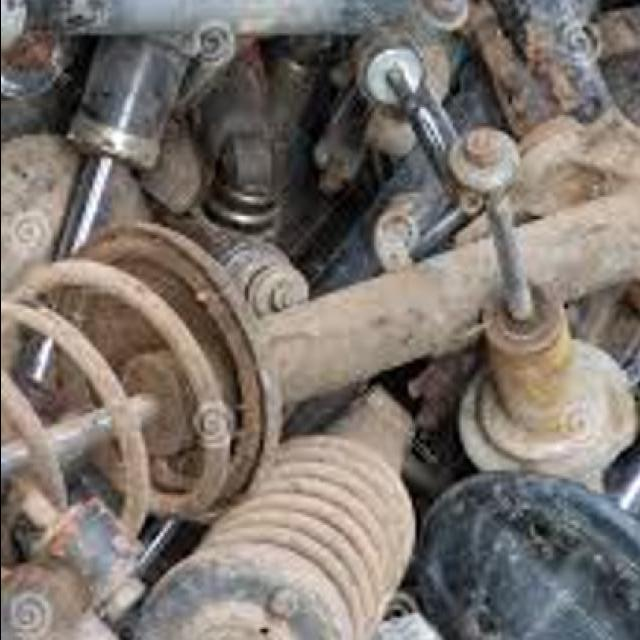shock absorber: (2, 184, 637, 567), (134, 384, 415, 638)
